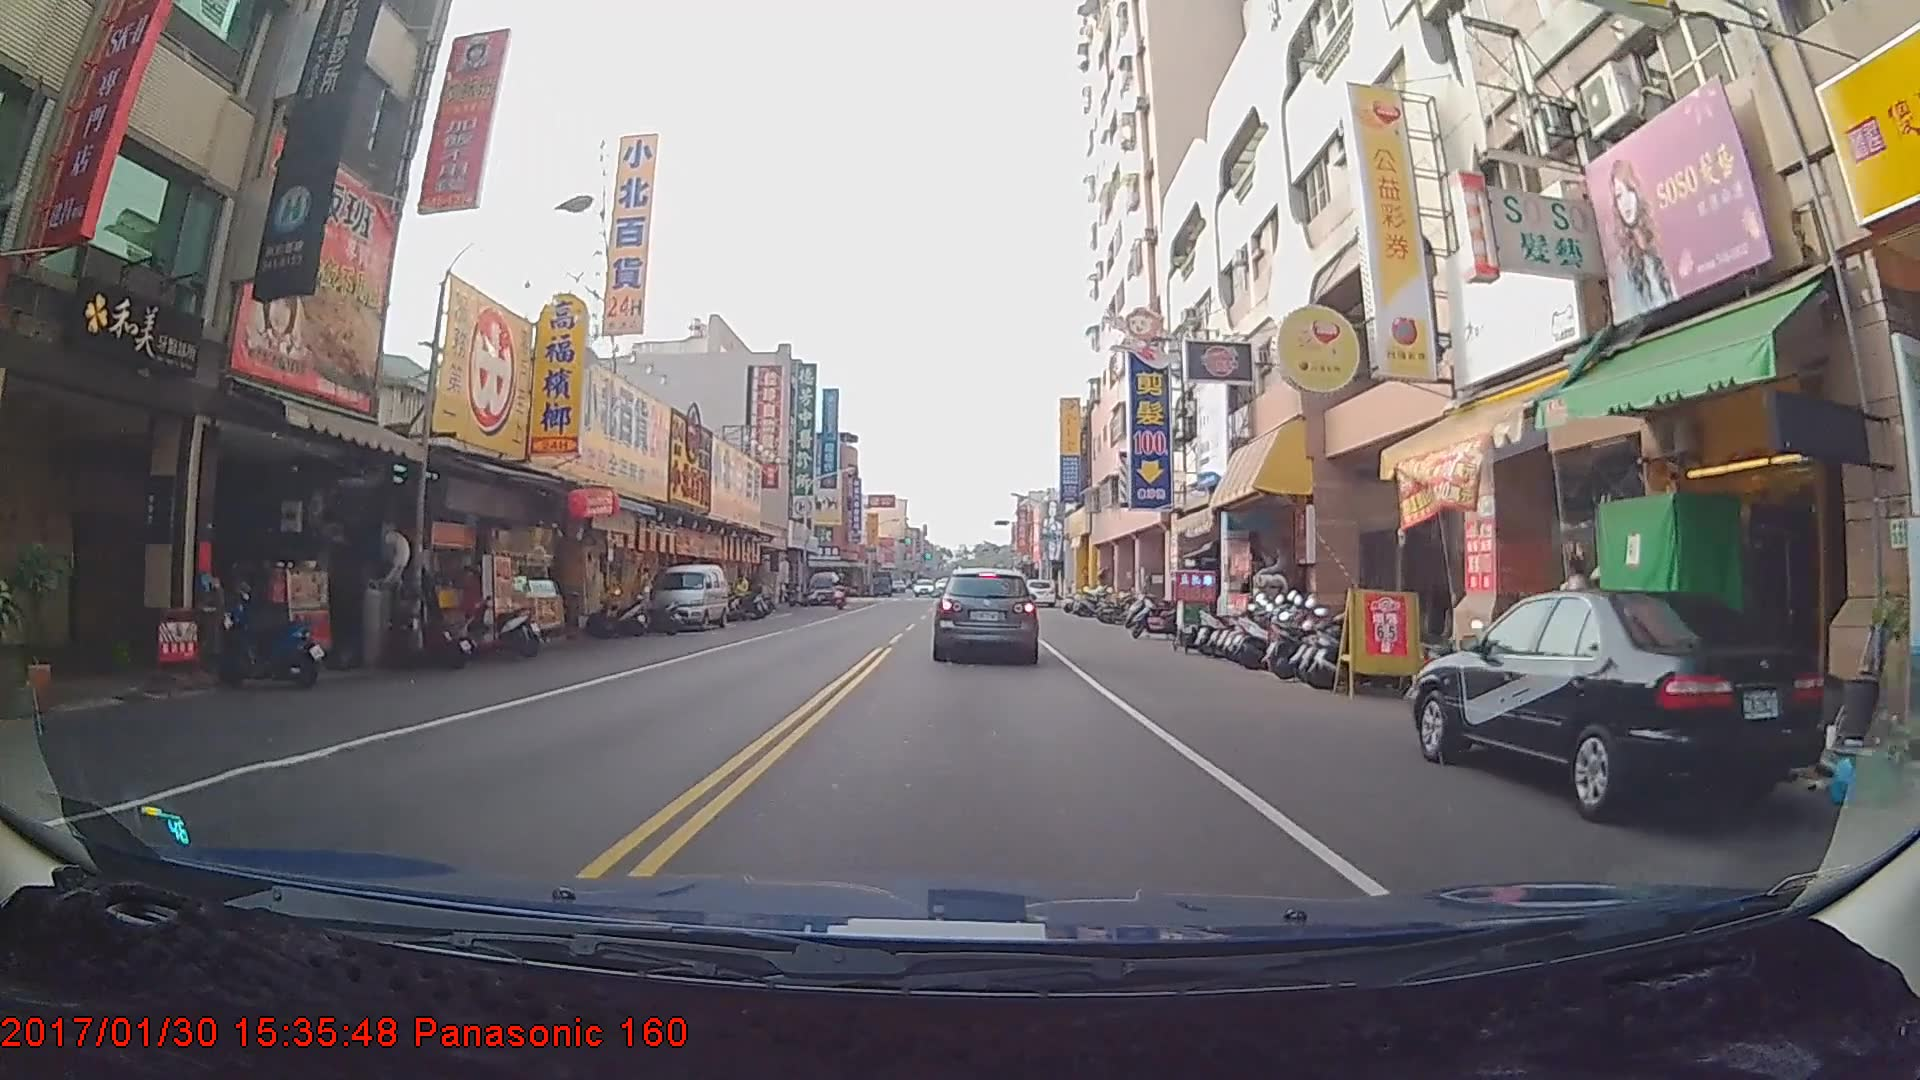pedestrian: (733, 565, 753, 622)
vehicle: (1411, 589, 1830, 828), (932, 565, 1040, 664), (649, 565, 729, 634), (806, 571, 843, 606), (1023, 578, 1056, 608)
